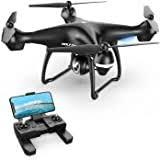drone: (0, 0, 160, 106)
